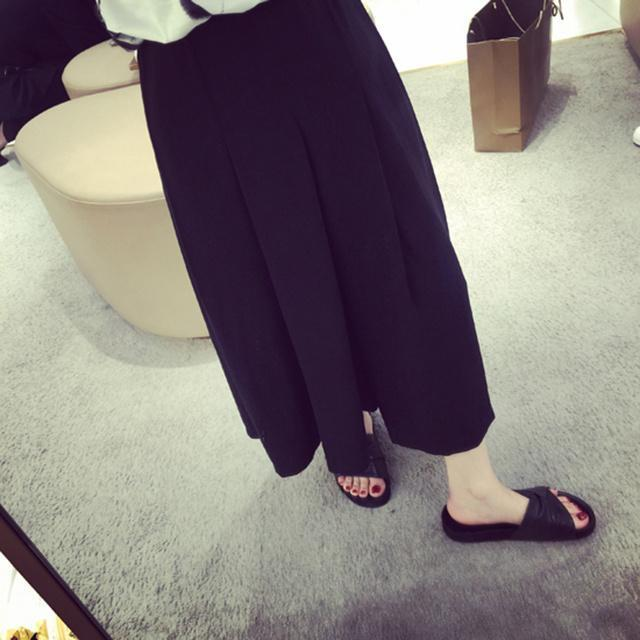trousers: (135, 0, 492, 479)
